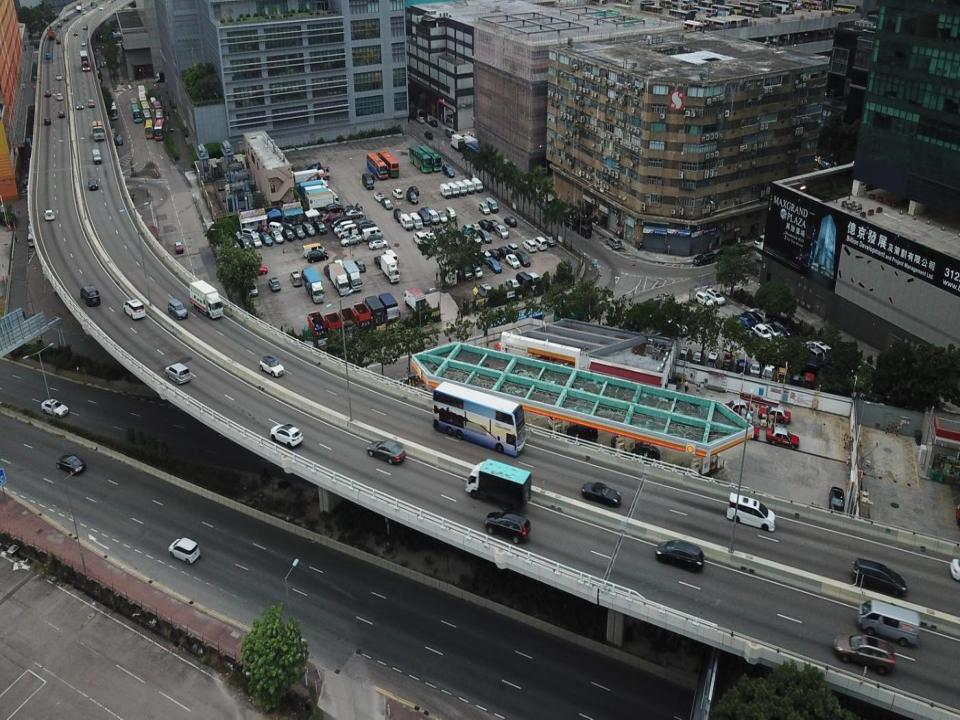bus: (433, 378, 528, 459), (481, 304, 543, 335), (406, 144, 432, 174), (419, 142, 442, 172), (378, 147, 399, 179), (367, 153, 389, 181), (106, 96, 118, 120), (130, 102, 143, 124), (78, 51, 91, 73), (154, 118, 166, 141), (153, 106, 164, 126), (143, 117, 153, 139), (140, 99, 151, 118), (143, 106, 152, 126), (152, 99, 161, 118), (129, 95, 139, 111), (149, 93, 158, 109), (137, 89, 146, 103), (138, 83, 145, 95)
car: (830, 630, 895, 674), (851, 558, 906, 600), (724, 490, 778, 532), (656, 534, 706, 573), (483, 507, 531, 547), (581, 476, 622, 506), (366, 437, 409, 464), (269, 420, 305, 450), (168, 534, 201, 564), (765, 423, 800, 451), (827, 483, 848, 521), (54, 451, 86, 475), (566, 420, 599, 443), (609, 428, 640, 452), (718, 400, 754, 420), (162, 360, 190, 385), (758, 403, 792, 423), (41, 396, 69, 420), (630, 444, 662, 465), (258, 354, 285, 378), (122, 298, 147, 322), (732, 417, 760, 437), (799, 340, 821, 364), (774, 314, 796, 338), (167, 297, 188, 322), (79, 283, 99, 308), (805, 338, 832, 356), (751, 320, 772, 342), (746, 300, 769, 320), (746, 355, 762, 381), (741, 306, 761, 325), (695, 290, 716, 308), (693, 248, 714, 266), (690, 346, 706, 368), (706, 286, 724, 305), (604, 232, 622, 251), (732, 312, 752, 329), (337, 222, 358, 238), (761, 359, 776, 381), (720, 350, 734, 373), (306, 249, 329, 263), (764, 320, 781, 338), (716, 244, 734, 261), (341, 233, 361, 248), (706, 347, 720, 368), (423, 227, 438, 246), (288, 270, 303, 289), (331, 215, 352, 228), (532, 234, 548, 251), (311, 218, 326, 236), (243, 278, 258, 296), (458, 256, 470, 278), (246, 265, 270, 276), (678, 342, 691, 362), (369, 238, 389, 251), (476, 281, 492, 297), (502, 276, 520, 290), (516, 249, 530, 267), (735, 357, 748, 376), (271, 226, 284, 245), (505, 254, 521, 269), (470, 258, 482, 278), (334, 220, 352, 233), (358, 218, 376, 231), (522, 238, 537, 253), (268, 219, 283, 234), (268, 275, 282, 291), (440, 164, 456, 178), (250, 232, 263, 249), (789, 367, 801, 385), (41, 208, 56, 222), (494, 223, 508, 238), (489, 258, 503, 273), (342, 203, 361, 214), (302, 220, 314, 237), (804, 368, 814, 388), (776, 366, 787, 384), (411, 231, 424, 246), (239, 237, 252, 252), (293, 224, 305, 240), (87, 175, 98, 192), (459, 221, 472, 235), (354, 259, 367, 273), (478, 217, 490, 232), (358, 222, 376, 232), (528, 270, 539, 286), (392, 207, 403, 223), (504, 215, 517, 228), (478, 248, 490, 262), (174, 239, 185, 254), (436, 209, 447, 224), (381, 195, 392, 210), (505, 240, 517, 253), (478, 201, 490, 214), (545, 234, 556, 248), (284, 228, 295, 242), (367, 234, 382, 244), (264, 232, 274, 247), (483, 228, 492, 244), (562, 214, 580, 222), (498, 245, 509, 258), (409, 185, 420, 198), (322, 263, 333, 276), (488, 248, 499, 260), (391, 188, 402, 200), (374, 191, 384, 204), (114, 131, 123, 145), (424, 129, 433, 141), (282, 223, 295, 231), (470, 222, 480, 232), (489, 218, 497, 230), (57, 108, 66, 118), (44, 116, 52, 127), (44, 88, 52, 99), (416, 114, 424, 124), (54, 72, 63, 80), (428, 118, 436, 127), (88, 98, 95, 108), (76, 102, 84, 110), (56, 92, 64, 100), (44, 51, 50, 60), (81, 38, 86, 48), (82, 22, 88, 30), (73, 29, 78, 36)
truck: (467, 460, 538, 510), (189, 280, 224, 324), (363, 292, 385, 336), (376, 288, 398, 330), (290, 161, 330, 183), (302, 267, 324, 305), (308, 305, 330, 343), (293, 172, 328, 194), (304, 186, 336, 210), (299, 181, 329, 206), (404, 284, 427, 316), (327, 261, 348, 295), (291, 167, 325, 188), (352, 300, 372, 335), (379, 253, 403, 282), (307, 191, 340, 212), (342, 258, 361, 292), (339, 306, 357, 337), (323, 310, 341, 340), (304, 182, 328, 204), (460, 134, 479, 154), (90, 120, 104, 142), (450, 132, 465, 152)
van: (855, 600, 921, 647), (574, 221, 592, 240), (363, 225, 382, 242), (408, 211, 422, 231), (361, 170, 374, 191), (399, 214, 414, 231), (419, 207, 431, 228), (444, 205, 458, 223), (485, 195, 499, 213), (428, 207, 441, 225), (447, 181, 460, 198), (463, 176, 474, 196), (472, 174, 484, 192), (240, 228, 256, 241), (455, 179, 466, 197), (91, 148, 102, 166), (440, 183, 451, 198), (444, 126, 454, 139)
